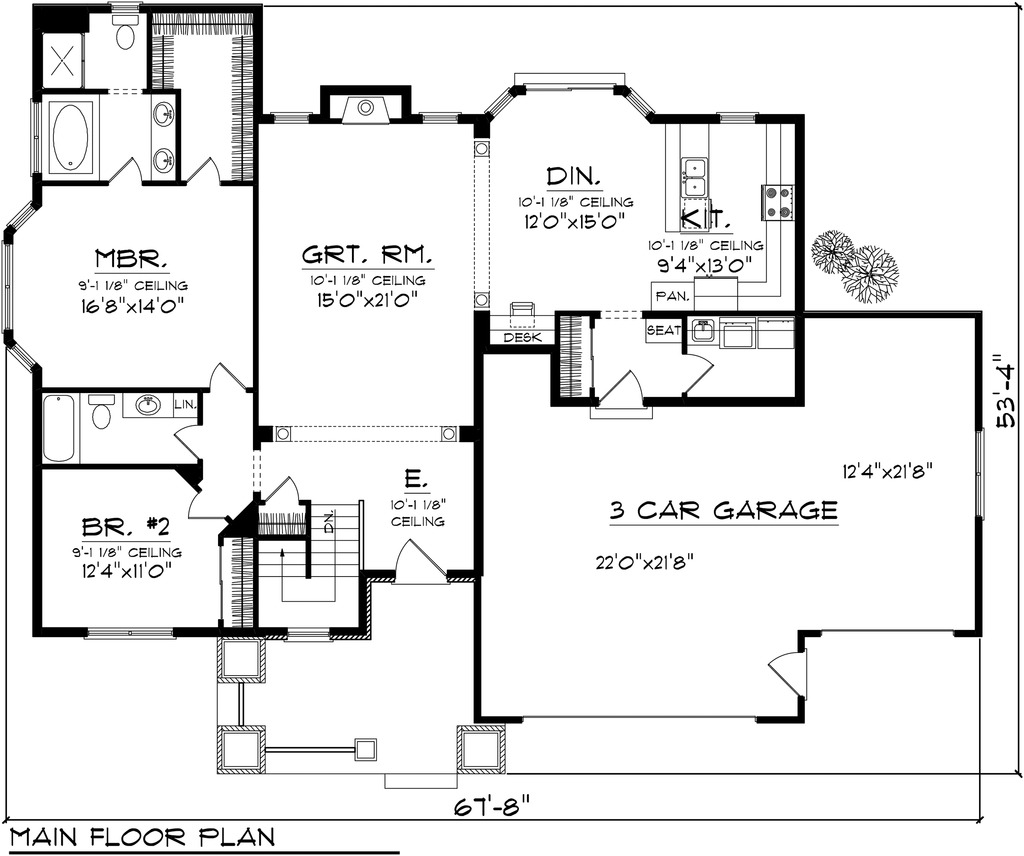door: (391, 532, 460, 594), (589, 363, 647, 419), (766, 641, 815, 696), (672, 342, 711, 402), (178, 149, 227, 191), (181, 486, 231, 525), (202, 362, 252, 400), (103, 150, 148, 187), (172, 421, 211, 463), (259, 479, 306, 510)
large_sink: (98, 1, 145, 57), (81, 390, 123, 435)
sink: (688, 317, 723, 345)
small_sink: (139, 90, 186, 182), (124, 392, 170, 416)
stairs: (255, 499, 363, 641)
tub: (38, 100, 98, 179), (41, 385, 88, 461)
twin_sink: (672, 150, 706, 202)
window: (485, 81, 515, 131), (711, 106, 776, 128), (264, 104, 316, 131), (622, 85, 655, 121), (81, 627, 170, 640), (414, 104, 460, 128)
